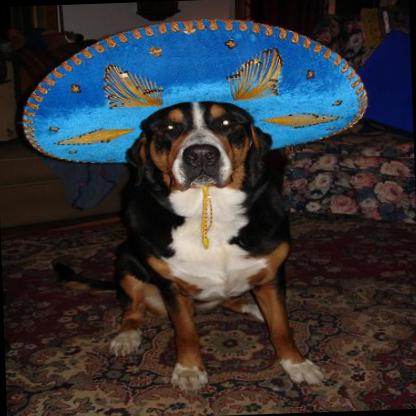Greater_Swiss_Mountain_dog: (97, 96, 325, 394)
